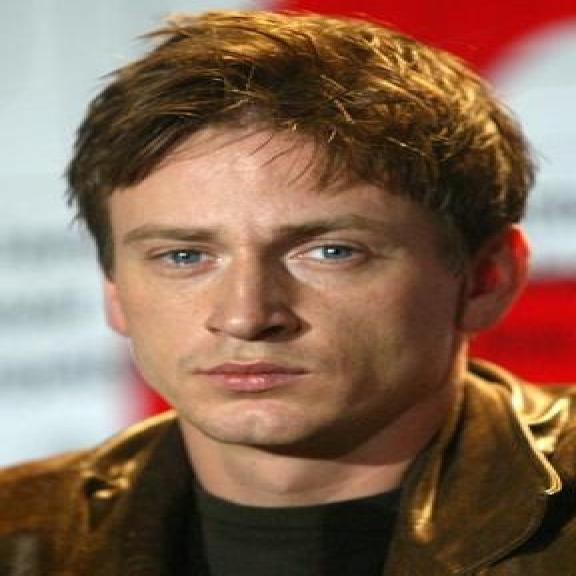face: (80, 117, 534, 452)
